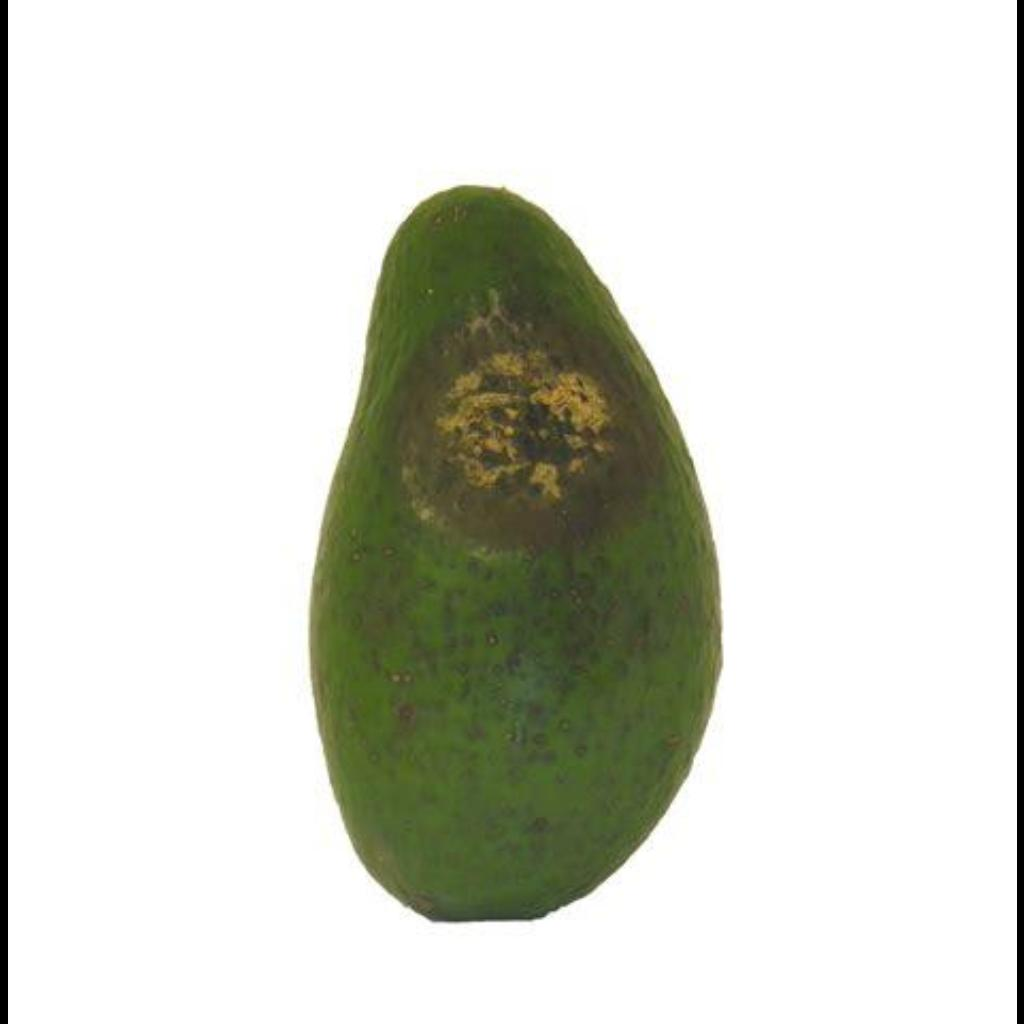antracnosis_fruto: (374, 252, 685, 686)
